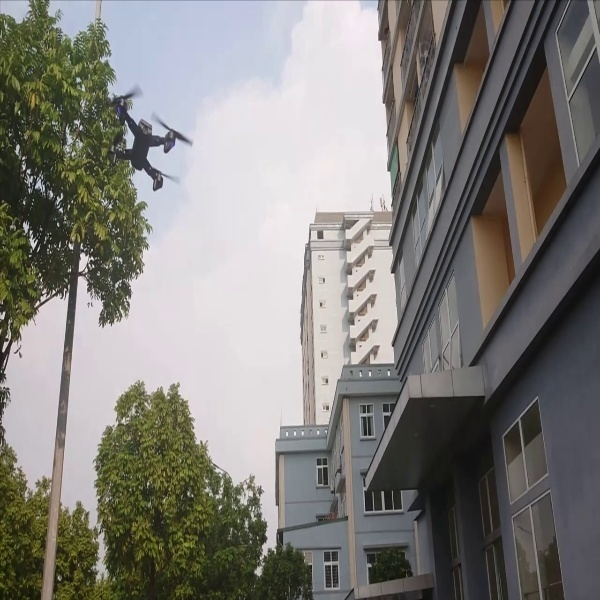drone: (101, 78, 196, 201)
